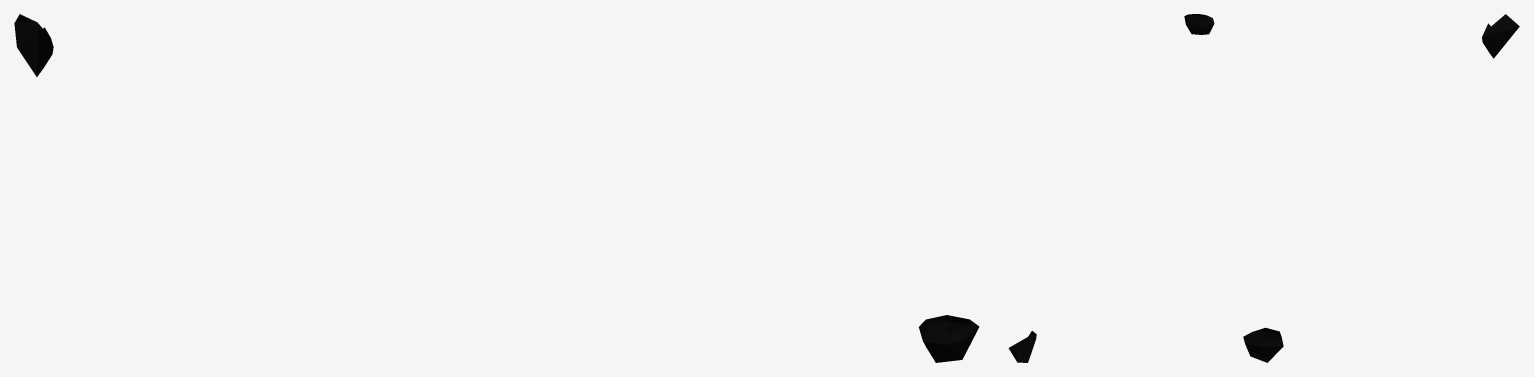
3 renders of one model, left to right at view 1: azimuth 30°, elevation 25°; view 2: azimuth 150°, elevation 25°; view 3: azimuth 330°, elevation 25°, orthographic. The views are drawn at different scales.
Bounding box in the file's own units: 1.2 × 0.4695 × 4.2.
1 material, 1 textured.
